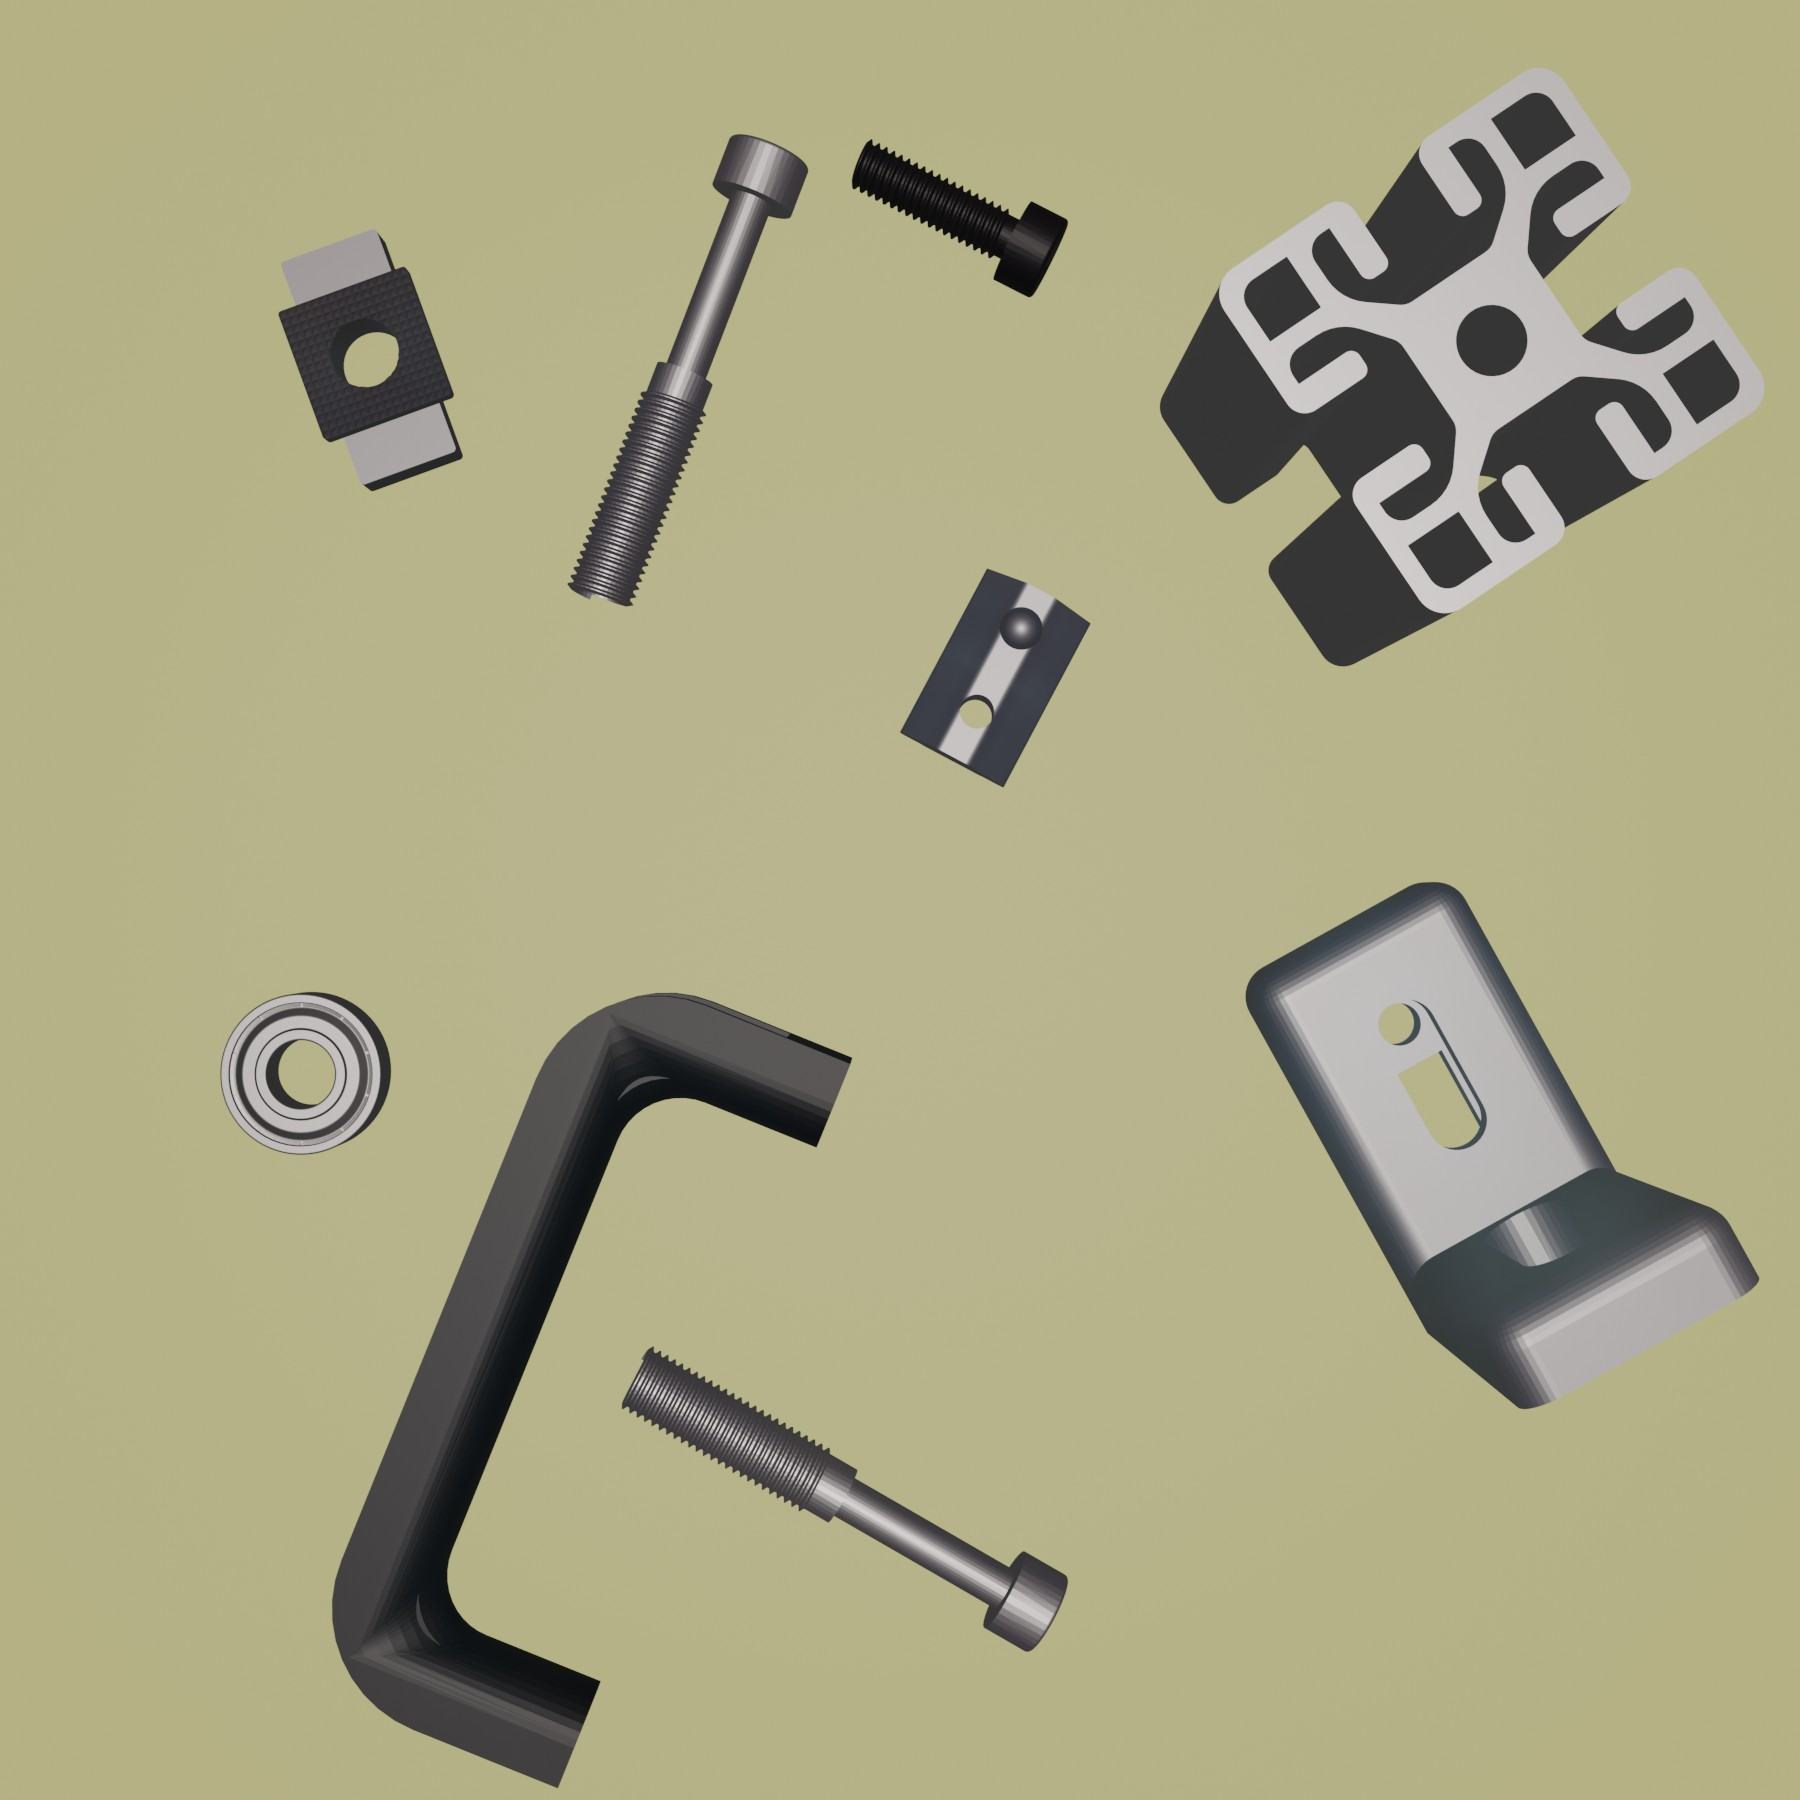Aluminium Extension: (1159, 63, 1769, 669)
Ball Bearing: (218, 986, 397, 1159)
Multiwinkel: (1241, 877, 1759, 1411)
Pull Handle: (328, 989, 854, 1792)
Shoulder Socket Head Cap Screw: (616, 1343, 1071, 1653), (564, 130, 813, 608)
Socket Head Cap Screw: (844, 134, 1071, 302)
T Nut Square: (274, 224, 465, 496)
T Spring Nut: (897, 565, 1093, 790)
